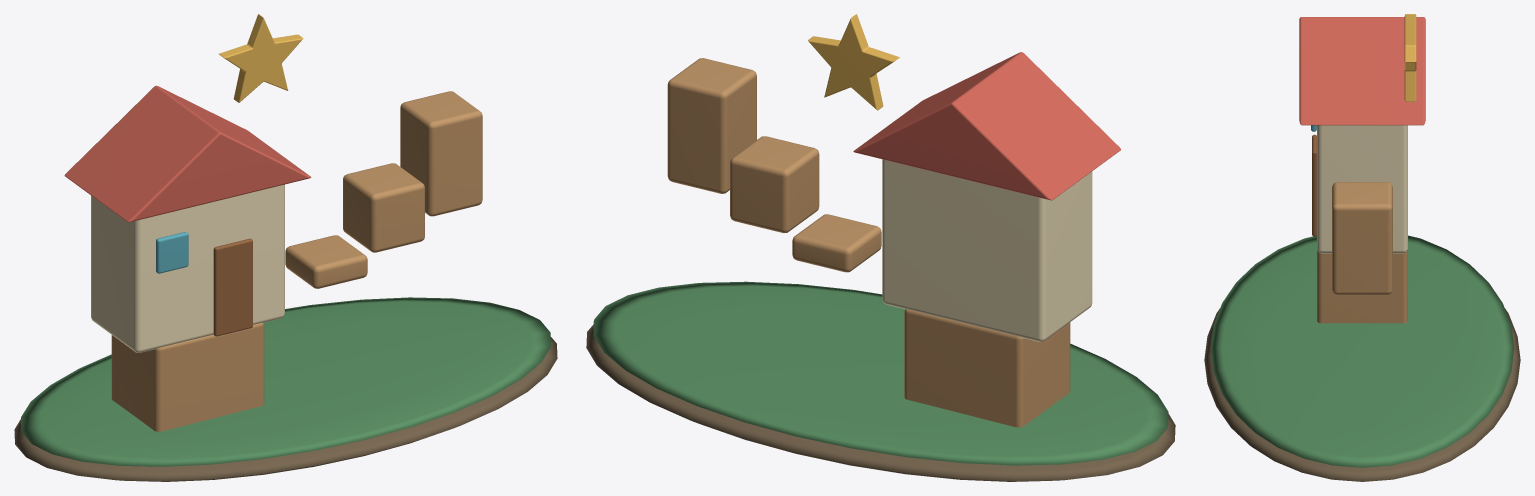
File: complete-third-high-level.glb
The picture shows the model from 3 angles, left to right: view 1: azimuth 30°, elevation 25°; view 2: azimuth 150°, elevation 25°; view 3: azimuth 270°, elevation 25°; orthographic projection. The views are drawn at different scales.
Parts seen in each view (by area): view 1: complete-third-high-level_surface_01, complete-third-high-level_surface_06, complete-third-high-level_surface_02, complete-third-high-level_surface_03, complete-third-high-level_surface_00, complete-third-high-level_surface_04, complete-third-high-level_surface_07, complete-third-high-level_surface_05; view 2: complete-third-high-level_surface_01, complete-third-high-level_surface_06, complete-third-high-level_surface_02, complete-third-high-level_surface_03, complete-third-high-level_surface_00, complete-third-high-level_surface_07; view 3: complete-third-high-level_surface_01, complete-third-high-level_surface_03, complete-third-high-level_surface_06, complete-third-high-level_surface_02, complete-third-high-level_surface_00, complete-third-high-level_surface_07, complete-third-high-level_surface_04.
Boxes of the visible parts, x1,y1,x2,y2 form: complete-third-high-level_surface_01: (21,297,550,466); complete-third-high-level_surface_06: (111,91,482,431); complete-third-high-level_surface_02: (91,184,284,352); complete-third-high-level_surface_03: (64,85,311,222); complete-third-high-level_surface_00: (14,337,557,481); complete-third-high-level_surface_04: (213,238,252,336); complete-third-high-level_surface_07: (219,14,303,102); complete-third-high-level_surface_05: (156,232,188,273); complete-third-high-level_surface_01: (593,281,1168,465); complete-third-high-level_surface_06: (667,58,1070,427); complete-third-high-level_surface_02: (882,159,1092,341); complete-third-high-level_surface_03: (853,52,1120,200); complete-third-high-level_surface_00: (586,324,1175,481); complete-third-high-level_surface_07: (808,14,899,110); complete-third-high-level_surface_01: (1210,235,1514,467); complete-third-high-level_surface_03: (1299,17,1425,125); complete-third-high-level_surface_06: (1317,182,1407,323); complete-third-high-level_surface_02: (1317,125,1407,253); complete-third-high-level_surface_00: (1204,308,1520,481); complete-third-high-level_surface_07: (1404,14,1416,101); complete-third-high-level_surface_04: (1312,134,1316,236).
Bounding box in the file's own units: 4.56 × 3.15 × 2.5.
